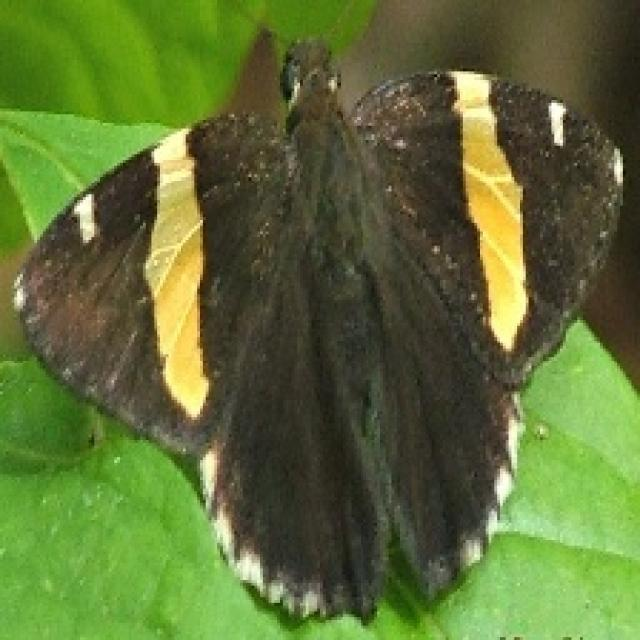butterfly: (8, 23, 626, 626)
